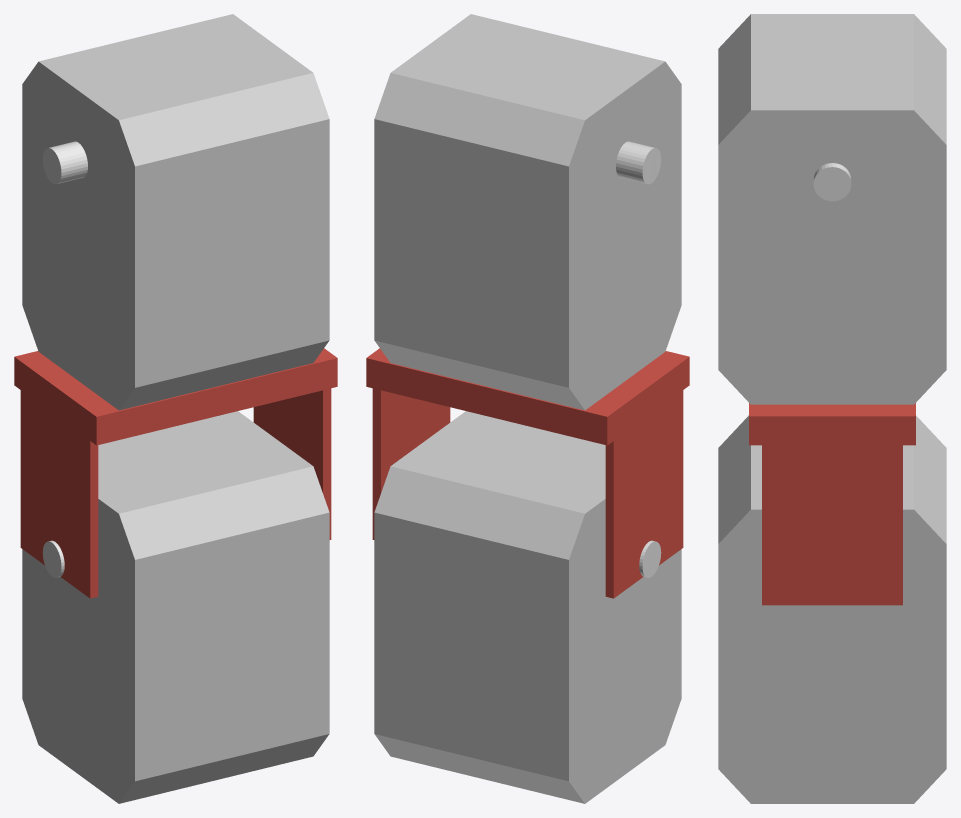
File: 2servoTest.dae
3 views of the same model, side by side, from view 1: azimuth 30°, elevation 25°; view 2: azimuth 150°, elevation 25°; view 3: azimuth 270°, elevation 25° (orthographic).
Visible parts, largest first — view 1: left_leg_servo4, left_leg_servo6, fr07-101_016, servo_axis_005, servo_axis_001; view 2: left_leg_servo4, left_leg_servo6, fr07-101_016, servo_axis_005, servo_axis_001; view 3: left_leg_servo4, left_leg_servo6, fr07-101_016, servo_axis_005.
Part boxes in pixels (x1,y1,x2,y2): left_leg_servo4: (22,14,329,410); left_leg_servo6: (22,411,329,803); fr07-101_016: (14,348,337,598); servo_axis_005: (42,141,87,184); servo_axis_001: (42,540,64,577); left_leg_servo4: (374,14,681,410); left_leg_servo6: (374,411,681,803); fr07-101_016: (366,348,689,598); servo_axis_005: (616,141,661,184); servo_axis_001: (639,540,661,577); left_leg_servo4: (718,14,946,404); left_leg_servo6: (718,415,946,803); fr07-101_016: (749,403,915,605); servo_axis_005: (813,163,851,201).
Size of the model in its own units: 0.446 by 0.356 by 1.19.
